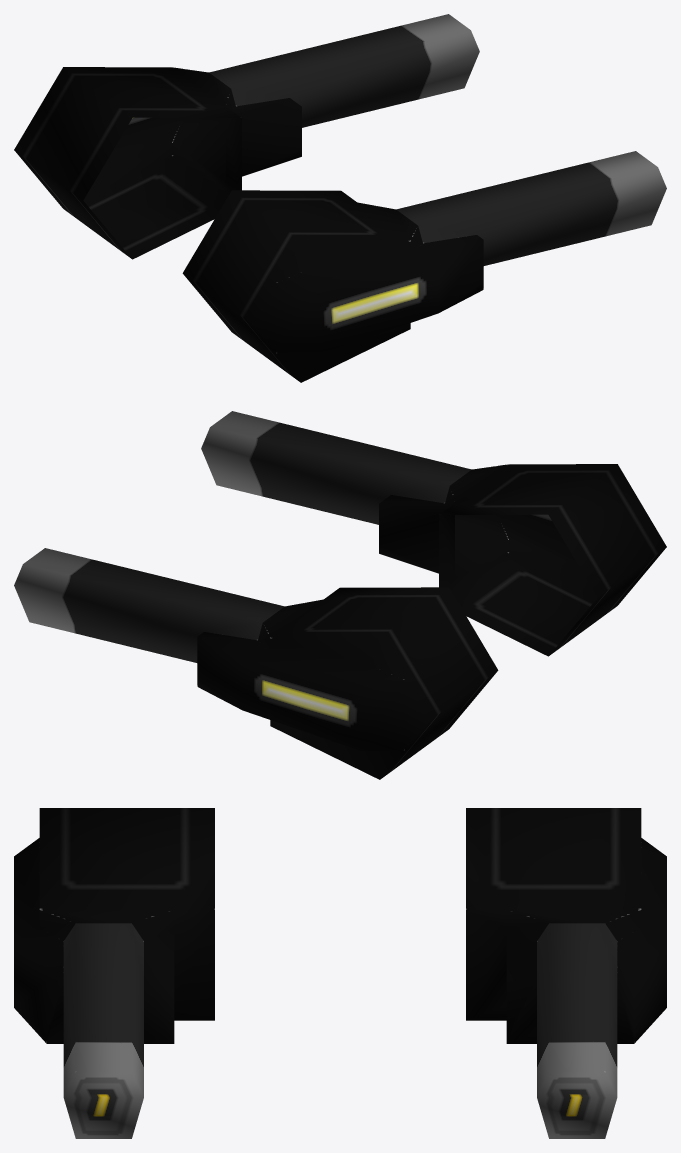
The model's file is laufoben.obj.
3 renders of one model, top to bottom at view 1: azimuth 30°, elevation 25°; view 2: azimuth 150°, elevation 25°; view 3: azimuth 270°, elevation 25°, orthographic. The views are drawn at different scales.
Parts seen in each view (by area): view 1: cube1_sep11; view 2: cube1_sep11; view 3: cube1_sep11.
Boxes of the visible parts, x1,y1,x2,y2 form: cube1_sep11: (14,14,666,382); cube1_sep11: (14,411,666,779); cube1_sep11: (14,808,666,1138).
Size of the model in its own units: 0.2073 by 0.0662 by 0.2183.
Materials: 1 (1 with a texture image).
